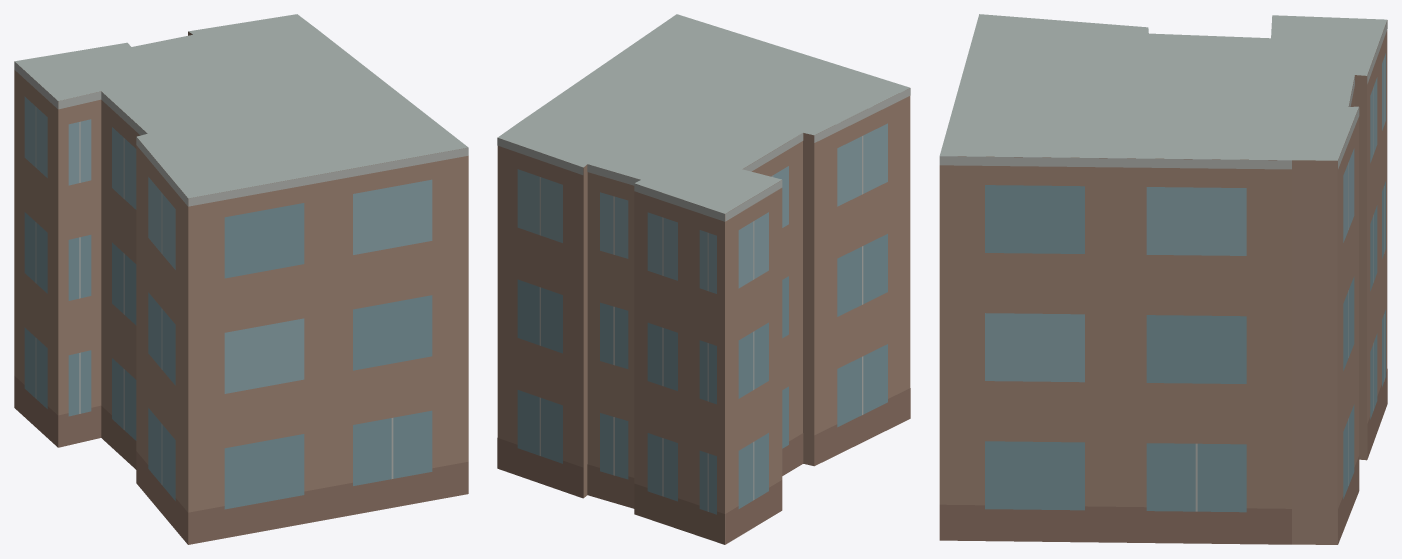
Rendered from survey-upis-32490767.glb.
3 renders of one model, left to right at view 1: azimuth 30°, elevation 25°; view 2: azimuth 150°, elevation 25°; view 3: azimuth 270°, elevation 25°, orthographic. The views are drawn at different scales.
Visible parts, largest first — view 1: survey-upis-32490767.tmp; view 2: survey-upis-32490767.tmp; view 3: survey-upis-32490767.tmp.
Part boxes in pixels (<box>): survey-upis-32490767.tmp: <box>14,14,468,544</box>; survey-upis-32490767.tmp: <box>497,14,910,544</box>; survey-upis-32490767.tmp: <box>939,14,1387,544</box>.
Bounding box in the file's own units: 8.35 × 10.2 × 10.78.
